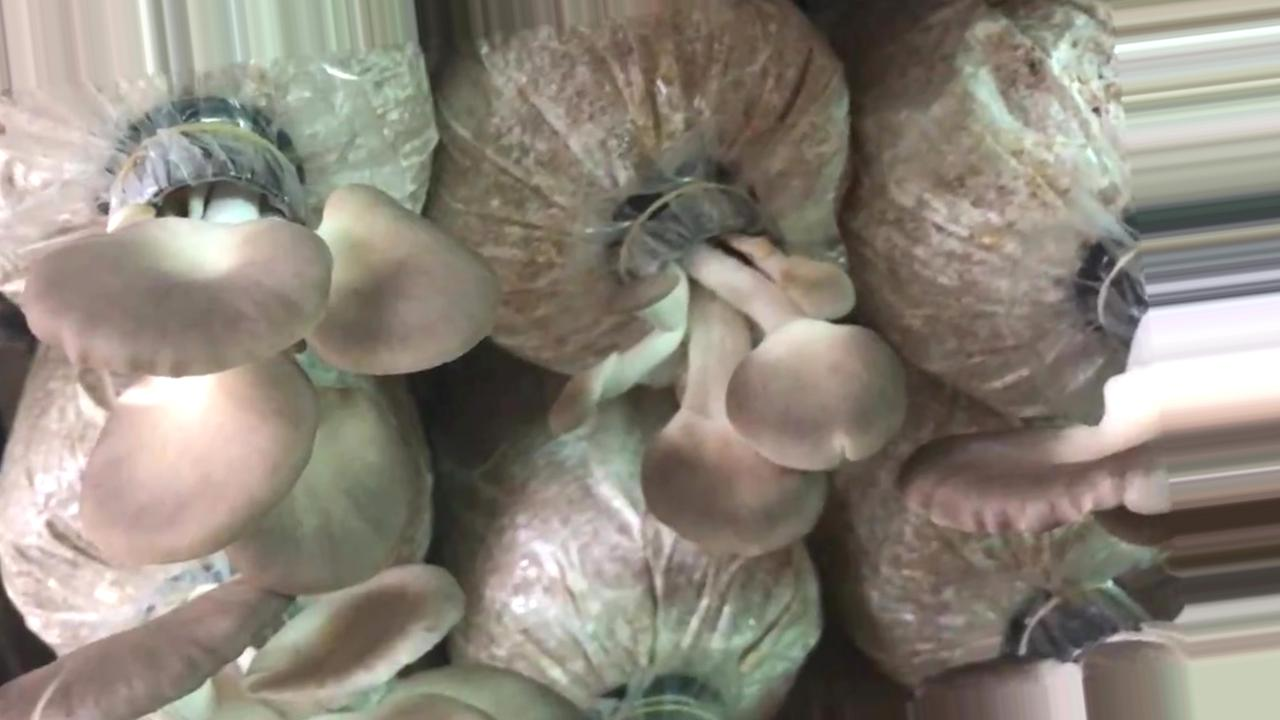nam: (561, 175, 882, 546), (28, 113, 489, 368), (1, 566, 585, 720), (898, 224, 1173, 532), (88, 380, 417, 591)
